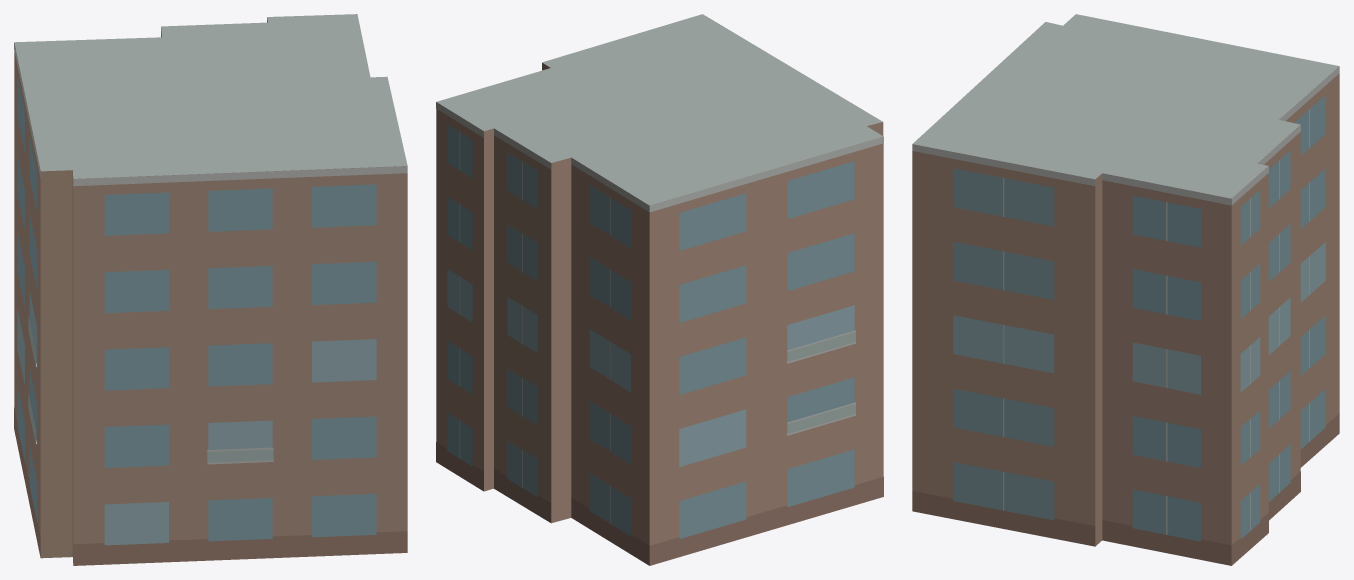
File: survey-upis-32664744.glb
The picture shows the model from 3 angles, left to right: view 1: azimuth 30°, elevation 25°; view 2: azimuth 150°, elevation 25°; view 3: azimuth 270°, elevation 25°; orthographic projection. The views are drawn at different scales.
Visible parts, largest first — view 1: survey-upis-32664744.tmp; view 2: survey-upis-32664744.tmp; view 3: survey-upis-32664744.tmp.
Boxes of the visible parts, x1=… form: survey-upis-32664744.tmp: x1=14, y1=14, x2=407, y2=565; survey-upis-32664744.tmp: x1=436, y1=14, x2=883, y2=565; survey-upis-32664744.tmp: x1=912, y1=14, x2=1339, y2=565.
Size of the model in its own units: 14.03 by 13 by 13.72.
